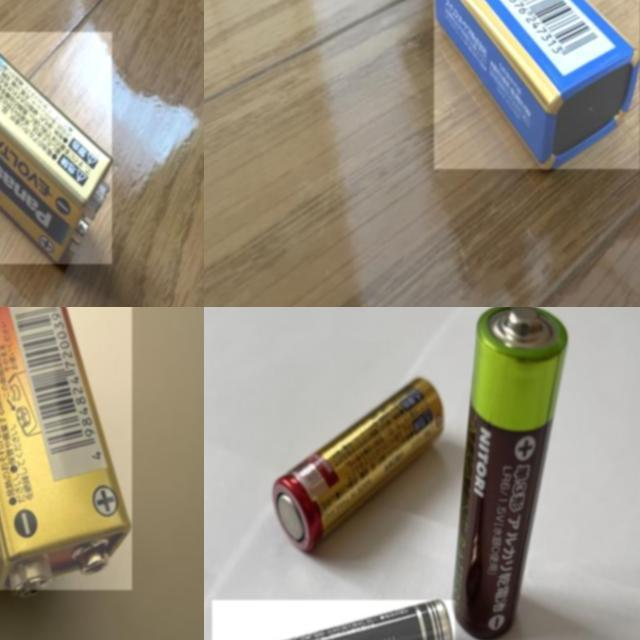9V: (0, 307, 132, 590), (434, 0, 640, 169), (0, 32, 112, 264)
